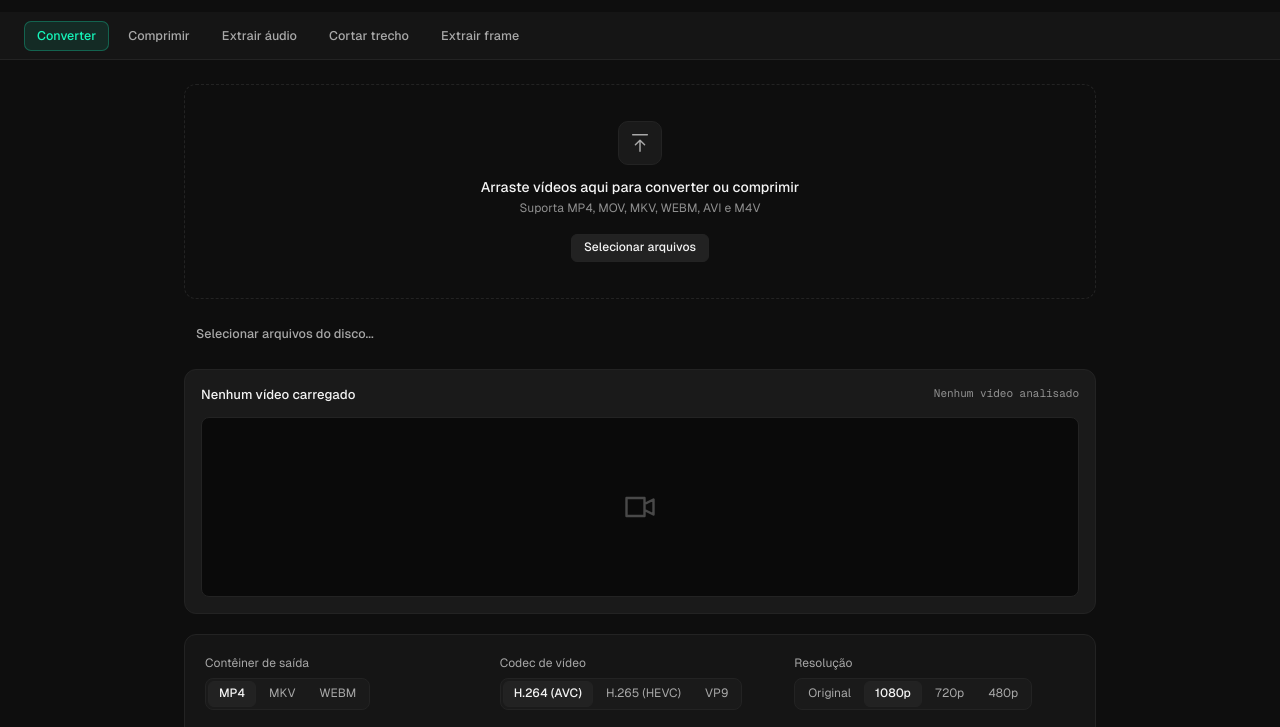
Media Screens Tests › renders VideoScreen and switches tool tabs
expect the button "Converter" is shown: met, box [24, 20, 109, 50]
expect the button "Extrair áudio" is shown: met, box [209, 20, 310, 50]
// Click Comprimir tab
Click the button "Comprimir": (159,36) [115, 20, 203, 50]
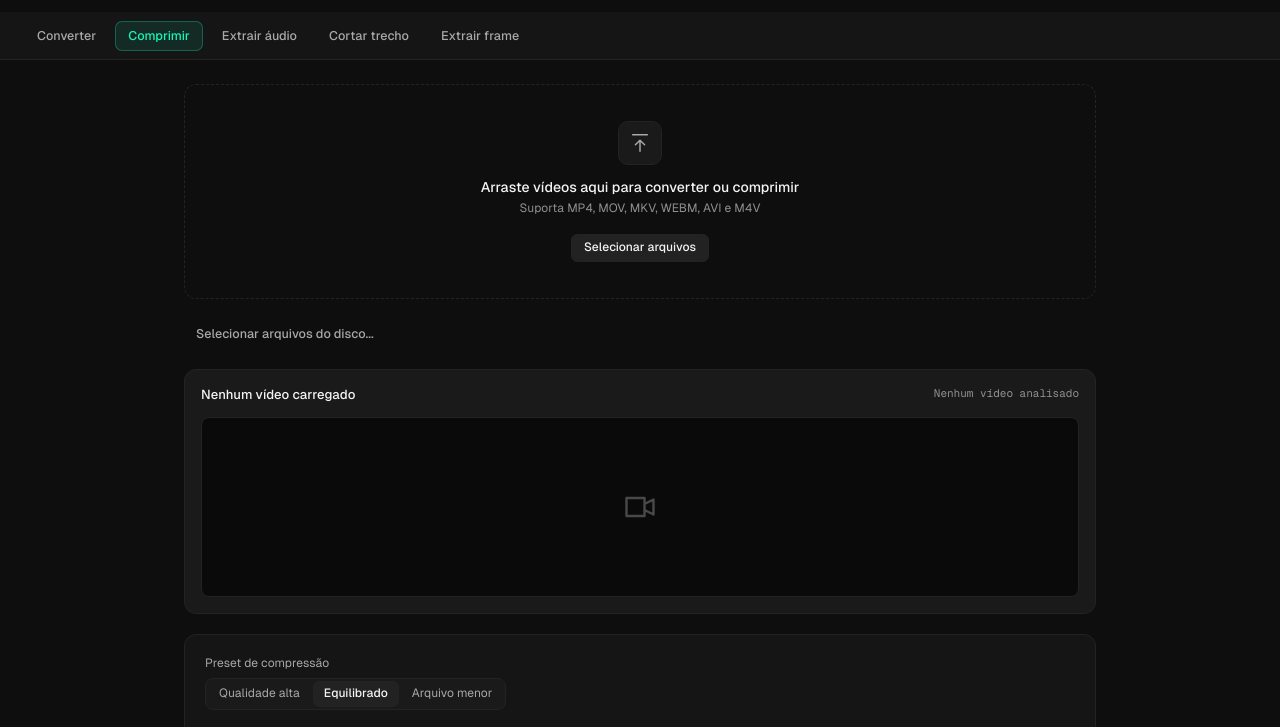
expect the text "Preset de compressão" is shown: met, box [205, 656, 329, 670]
// Click Extrair áudio tab
Click the button "Extrair áudio": (259,36) [209, 20, 310, 50]
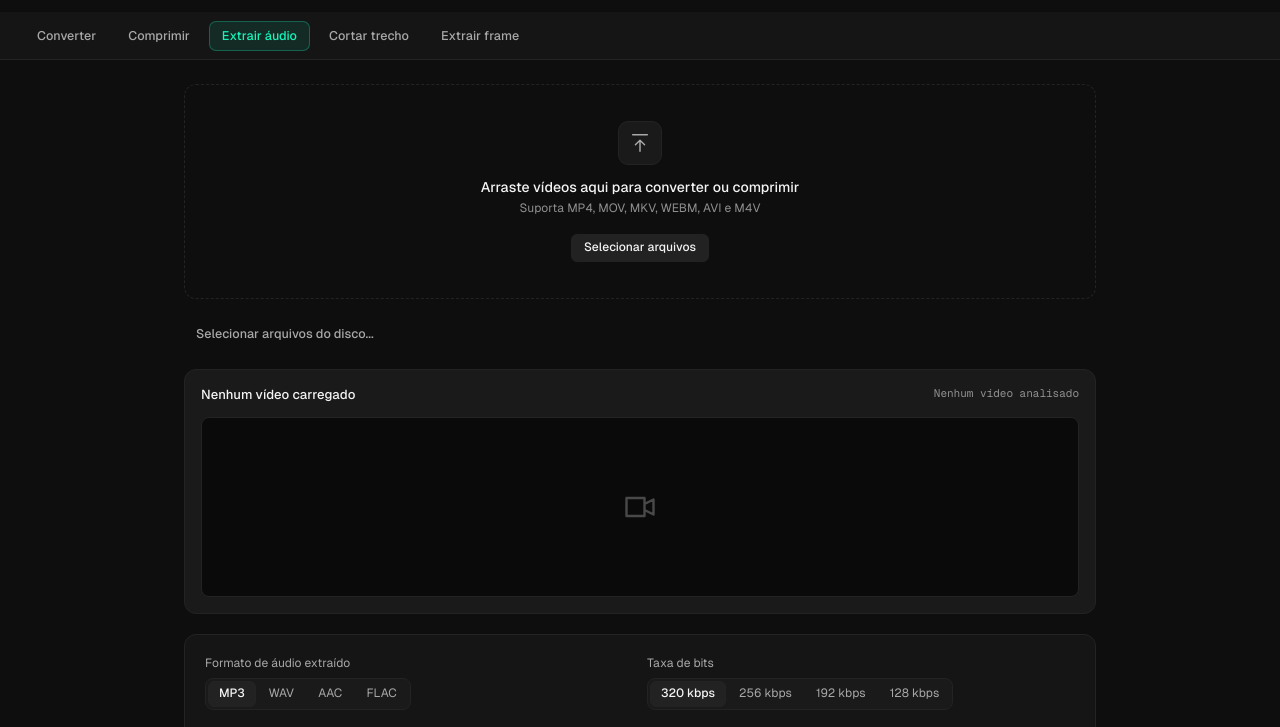
expect the text "Formato de áudio extraído" is shown: met, box [205, 656, 350, 670]
// Click Cortar trecho tab
Click the button "Cortar trecho": (369,36) [316, 20, 422, 50]
(page scrolled)
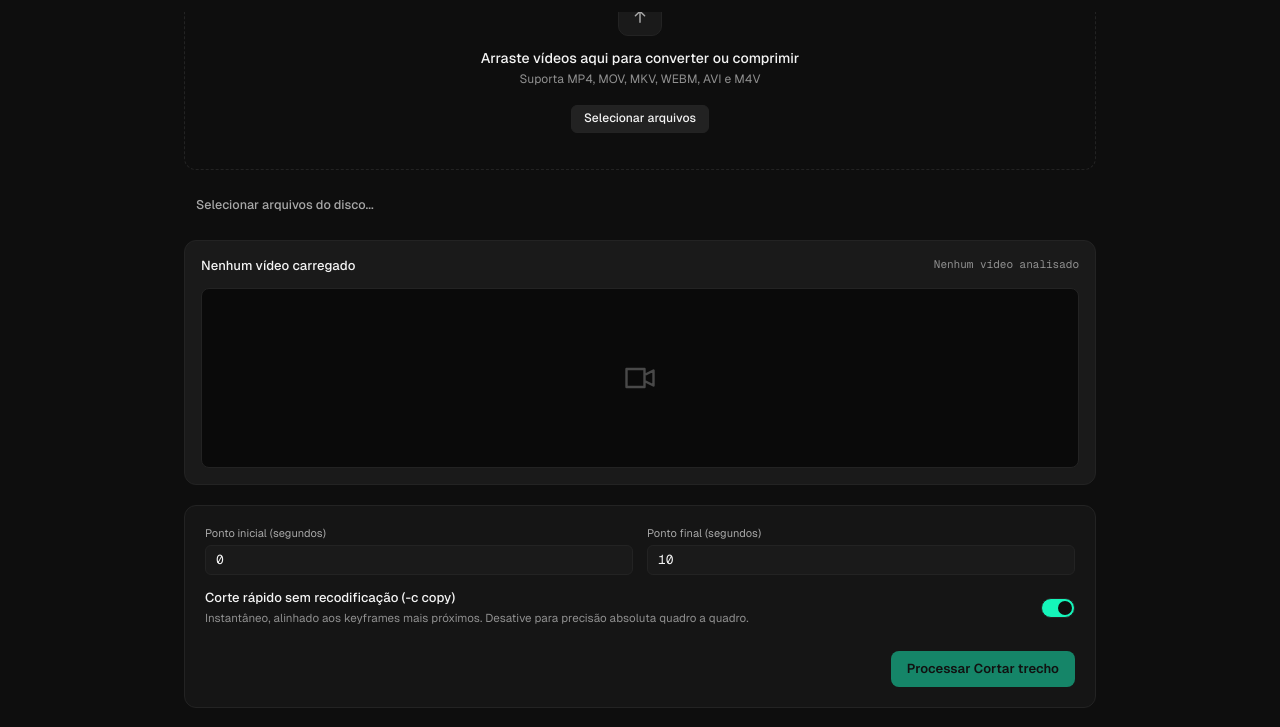
expect the text "Ponto inicial (segundos)" is shown: met, box [205, 526, 326, 538]
expect the text "Corte rápido sem recodificação (-c copy)" is shown: met, box [205, 590, 455, 606]
